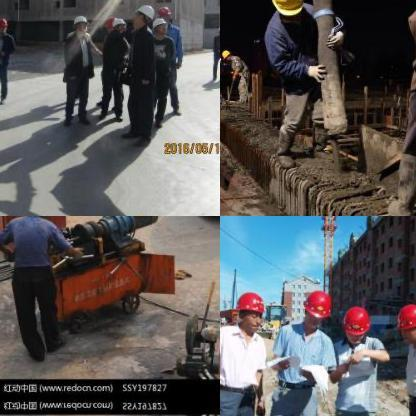Helmet: (230, 287, 266, 335), (300, 287, 334, 329), (341, 303, 370, 341), (392, 300, 415, 344), (267, 0, 306, 18), (130, 1, 154, 27), (69, 12, 89, 34), (150, 16, 166, 34), (156, 3, 172, 21), (110, 17, 126, 32), (0, 13, 9, 35), (220, 47, 233, 62), (214, 22, 219, 36)
